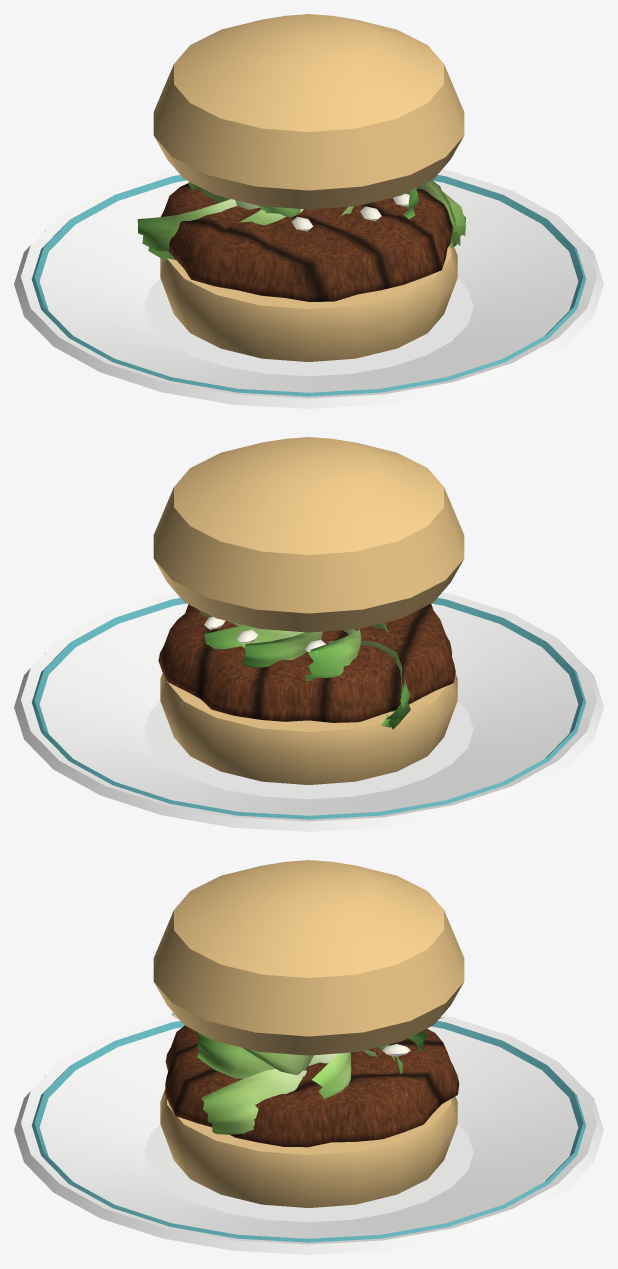
Rendered from kr_p_bun_lettuce_patty.glb.
3 renders of one model, top to bottom at view 1: azimuth 30°, elevation 25°; view 2: azimuth 150°, elevation 25°; view 3: azimuth 270°, elevation 25°, orthographic.
Visible parts, largest first — view 1: vc_m0_r4, vc_m0_r2, kr_p_bun_lettuce_patty_f_ground_cooked, vc_m0_r6; view 2: vc_m0_r4, vc_m0_r2, kr_p_bun_lettuce_patty_f_ground_cooked, vc_m0_r6; view 3: vc_m0_r4, vc_m0_r2, kr_p_bun_lettuce_patty_f_ground_cooked.
Boxes of the visible parts, bbox=[...] form: vc_m0_r4: bbox=[31, 14, 586, 396]; vc_m0_r2: bbox=[14, 169, 603, 408]; kr_p_bun_lettuce_patty_f_ground_cooked: bbox=[161, 180, 452, 301]; vc_m0_r6: bbox=[291, 193, 409, 231]; vc_m0_r4: bbox=[31, 437, 586, 819]; vc_m0_r2: bbox=[14, 592, 603, 831]; kr_p_bun_lettuce_patty_f_ground_cooked: bbox=[158, 603, 455, 722]; vc_m0_r6: bbox=[204, 616, 325, 652]; vc_m0_r4: bbox=[31, 860, 586, 1242]; vc_m0_r2: bbox=[14, 1016, 603, 1254]; kr_p_bun_lettuce_patty_f_ground_cooked: bbox=[165, 1025, 459, 1147].
Bounding box in the file's own units: 0.43 × 0.235 × 0.43.
Materials: 4 (1 with a texture image).
